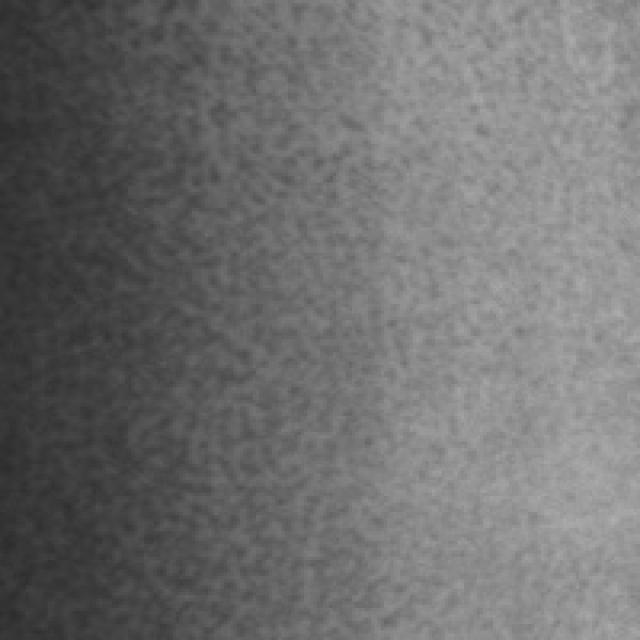pitted_surface: (10, 0, 461, 630)
